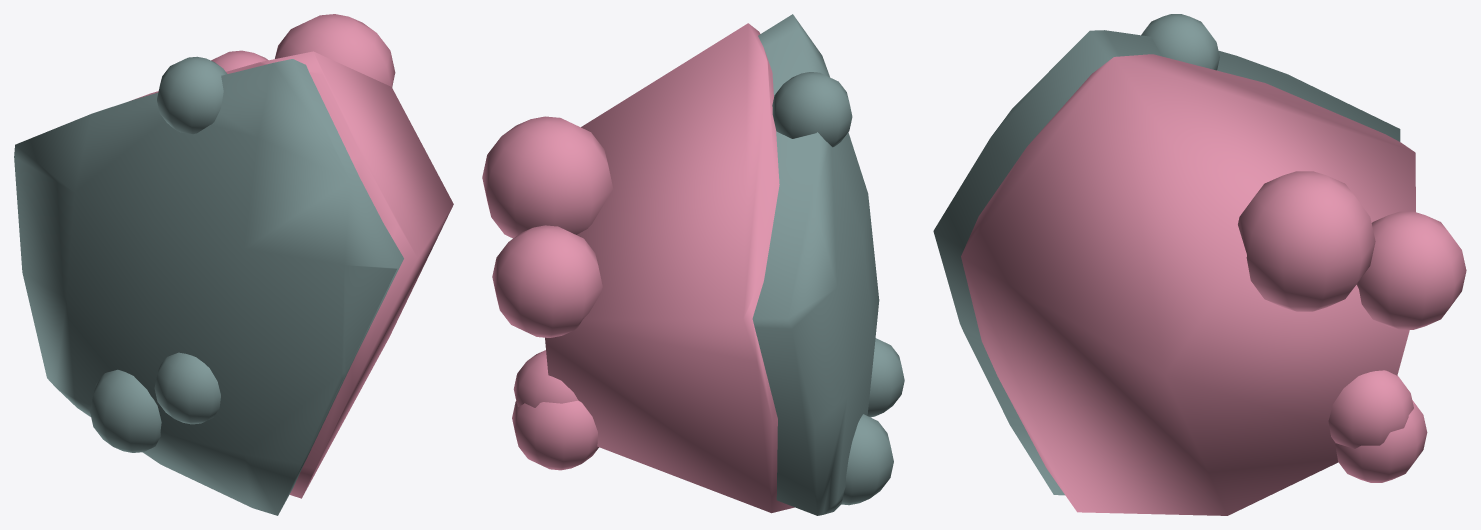
File: chunk23.glb
The picture shows the model from 3 angles, left to right: view 1: azimuth 30°, elevation 25°; view 2: azimuth 150°, elevation 25°; view 3: azimuth 270°, elevation 25°; orthographic projection. The views are drawn at different scales.
Visible parts, largest first — view 1: skin, flesh; view 2: flesh, skin; view 3: flesh, skin.
Part boxes in pixels (box(x1,y1,x2,y2)): skin: box(14, 56, 403, 515); flesh: box(132, 14, 453, 498); flesh: box(482, 23, 794, 513); skin: box(752, 14, 904, 515); flesh: box(961, 54, 1466, 515); skin: box(933, 14, 1400, 495).
Size of the model in its own units: 0.6429 by 0.7878 by 0.7912.
